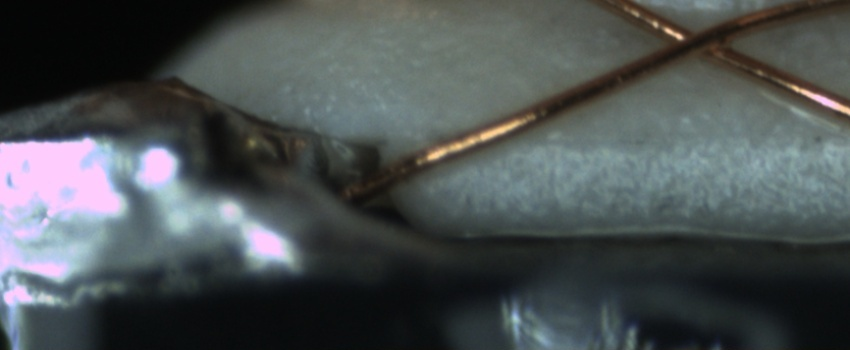CL: (647, 13, 746, 68)
DL: (507, 105, 850, 169)
